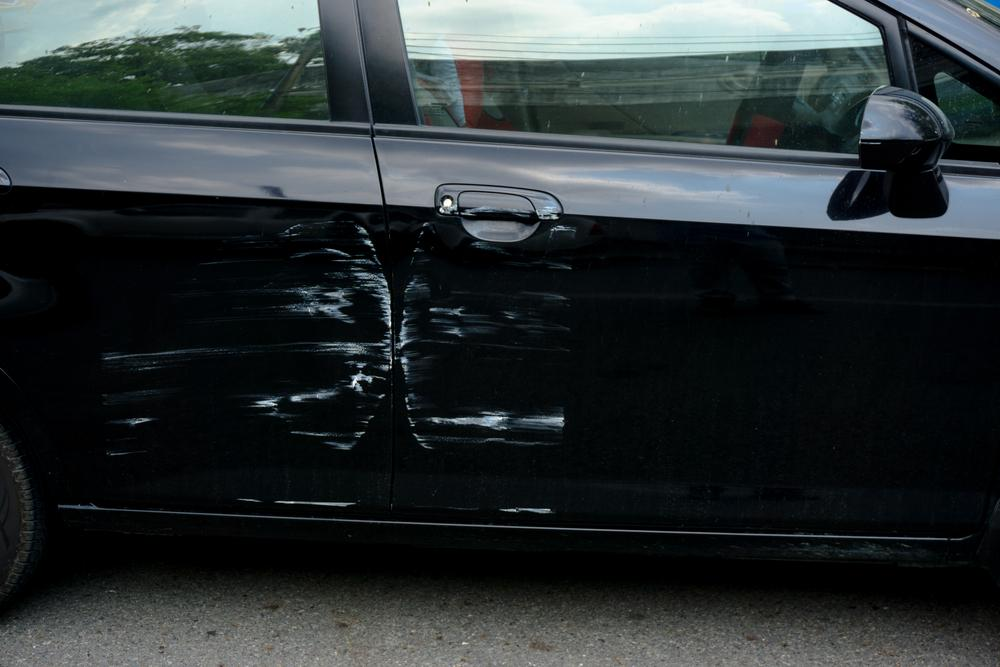scratch: (99, 215, 394, 460), (394, 203, 585, 518), (222, 495, 364, 513)
